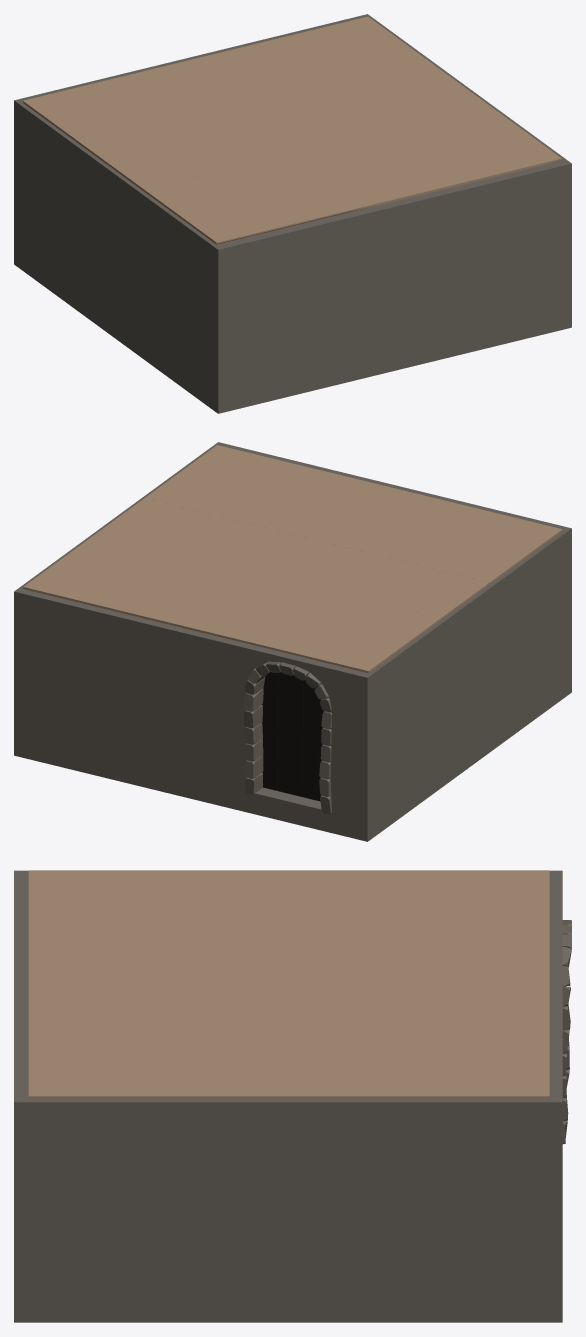
The model's file is VR_WitchHouse.fbx.
3 renders of one model, top to bottom at view 1: azimuth 30°, elevation 25°; view 2: azimuth 150°, elevation 25°; view 3: azimuth 270°, elevation 25°, orthographic. The views are drawn at different scales.
Visible parts, largest first — view 1: Room, Roof; view 2: Room, Roof, Door, Bricks arch; view 3: Room, Roof, Bricks arch.
Part boxes in pixels (box(x1,y1,x2,y2)): Room: box(14, 14, 571, 413); Roof: box(23, 16, 561, 244); Room: box(14, 442, 571, 841); Roof: box(23, 445, 562, 673); Door: box(262, 672, 323, 801); Bricks arch: box(243, 661, 332, 814); Room: box(14, 870, 562, 1322); Roof: box(28, 870, 549, 1099); Bricks arch: box(562, 920, 571, 1144).
Size of the model in its own units: 880 by 397 by 895.
